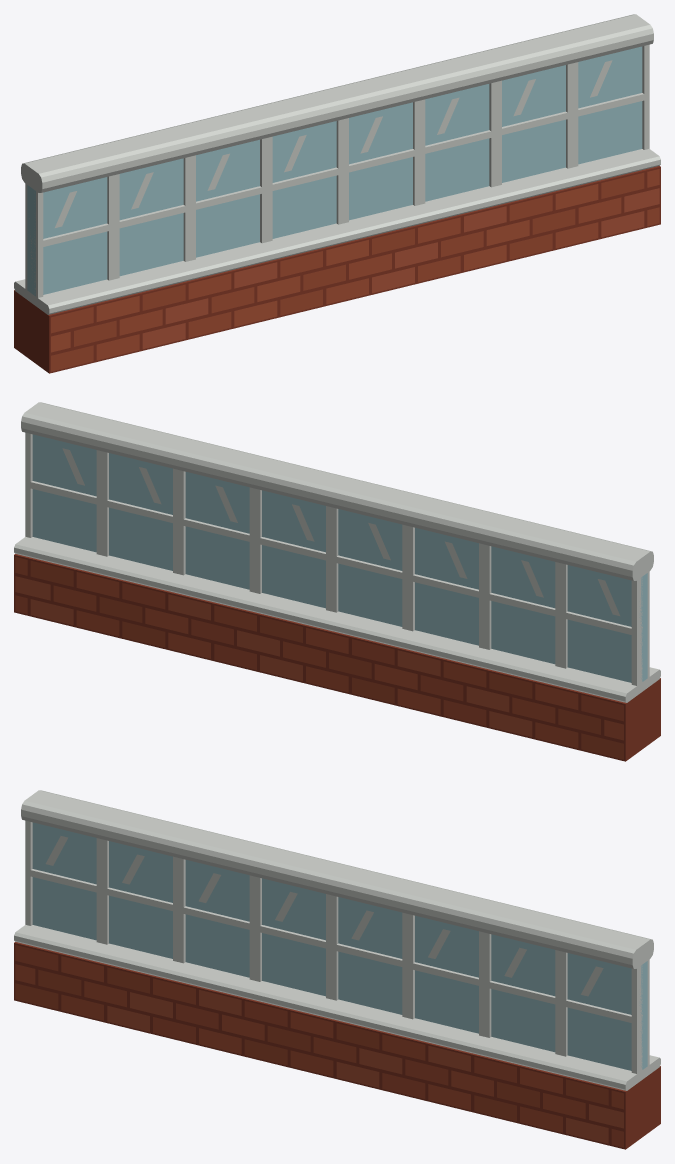
Rendered from greenhouse-wall2.glb.
The picture shows the model from 3 angles, top to bottom: view 1: azimuth 30°, elevation 25°; view 2: azimuth 150°, elevation 25°; view 3: azimuth 330°, elevation 25°; orthographic projection.
Parts seen in each view (by area): view 1: greenhouse-wall2; view 2: greenhouse-wall2; view 3: greenhouse-wall2.
Boxes of the visible parts, x1=… form: greenhouse-wall2: x1=14, y1=14, x2=660, y2=373; greenhouse-wall2: x1=14, y1=402, x2=660, y2=761; greenhouse-wall2: x1=14, y1=790, x2=660, y2=1149.
Bounding box in the file's own units: 4 × 1.2 × 0.4024.
